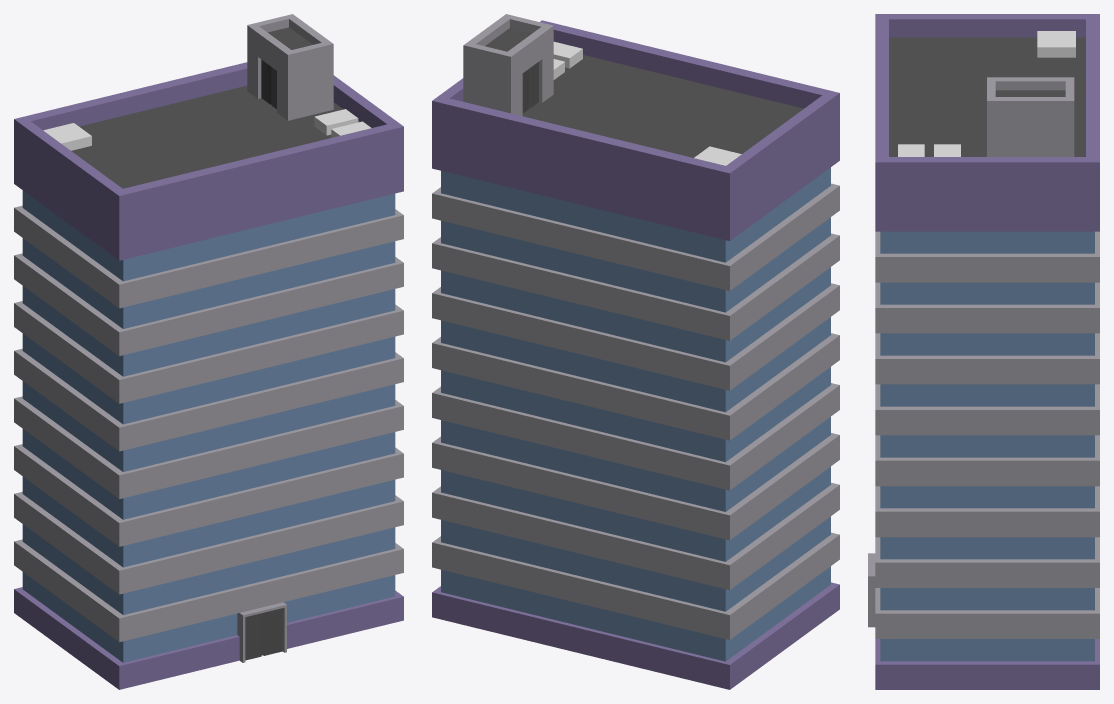
The model's file is Building_Pink.fbx.
3 views of the same model, side by side, from view 1: azimuth 30°, elevation 25°; view 2: azimuth 150°, elevation 25°; view 3: azimuth 270°, elevation 25° (orthographic). The views are drawn at different scales.
Visible parts, largest first — view 1: pCube1, pCube2, pCube4, pCube5; view 2: pCube1, pCube2; view 3: pCube1, pCube2, pCube4.
Boxes of the visible parts, bbox=[...] form: pCube1: bbox=[14, 62, 403, 689]; pCube2: bbox=[247, 14, 333, 120]; pCube4: bbox=[43, 123, 91, 150]; pCube5: bbox=[314, 109, 358, 135]; pCube1: bbox=[432, 20, 839, 689]; pCube2: bbox=[463, 14, 553, 116]; pCube1: bbox=[868, 14, 1099, 689]; pCube2: bbox=[987, 77, 1074, 156]; pCube4: bbox=[1037, 31, 1075, 57].
Bounding box in the file's own units: 6.25 × 11.38 × 4.13.
